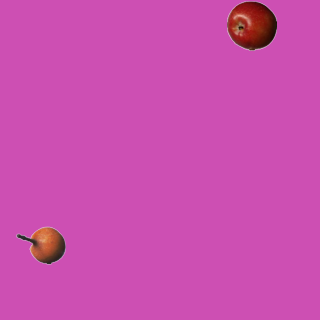Apple Braeburn: (226, 0, 276, 50)
Granadilla: (15, 220, 65, 270)
